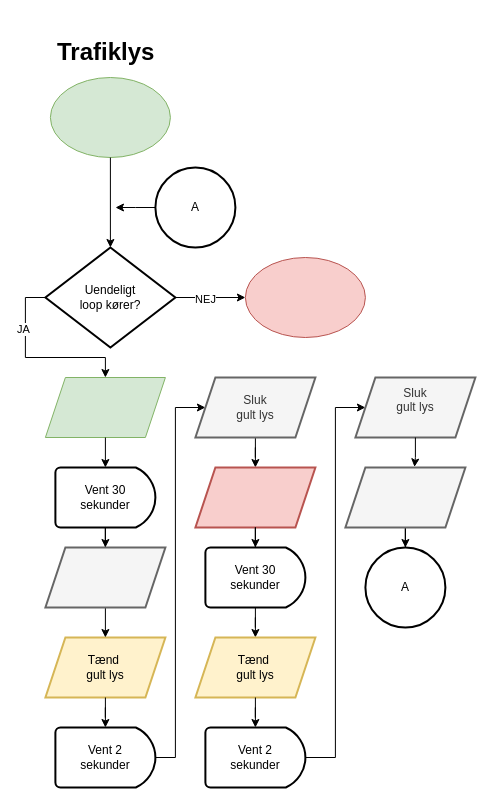
This 493x805 diagram has some shape labels left out. Here are the shapes that lost their labels. From the top down, the box of each, then its label:
(49, 76, 170, 158): START
(244, 256, 365, 338): STOP
(44, 376, 165, 438): Tænd grønt lys
(194, 466, 316, 528): Tænd rødt lys
(344, 466, 466, 528): Sluk rødt lys
(44, 546, 166, 608): Sluk grøntlys
